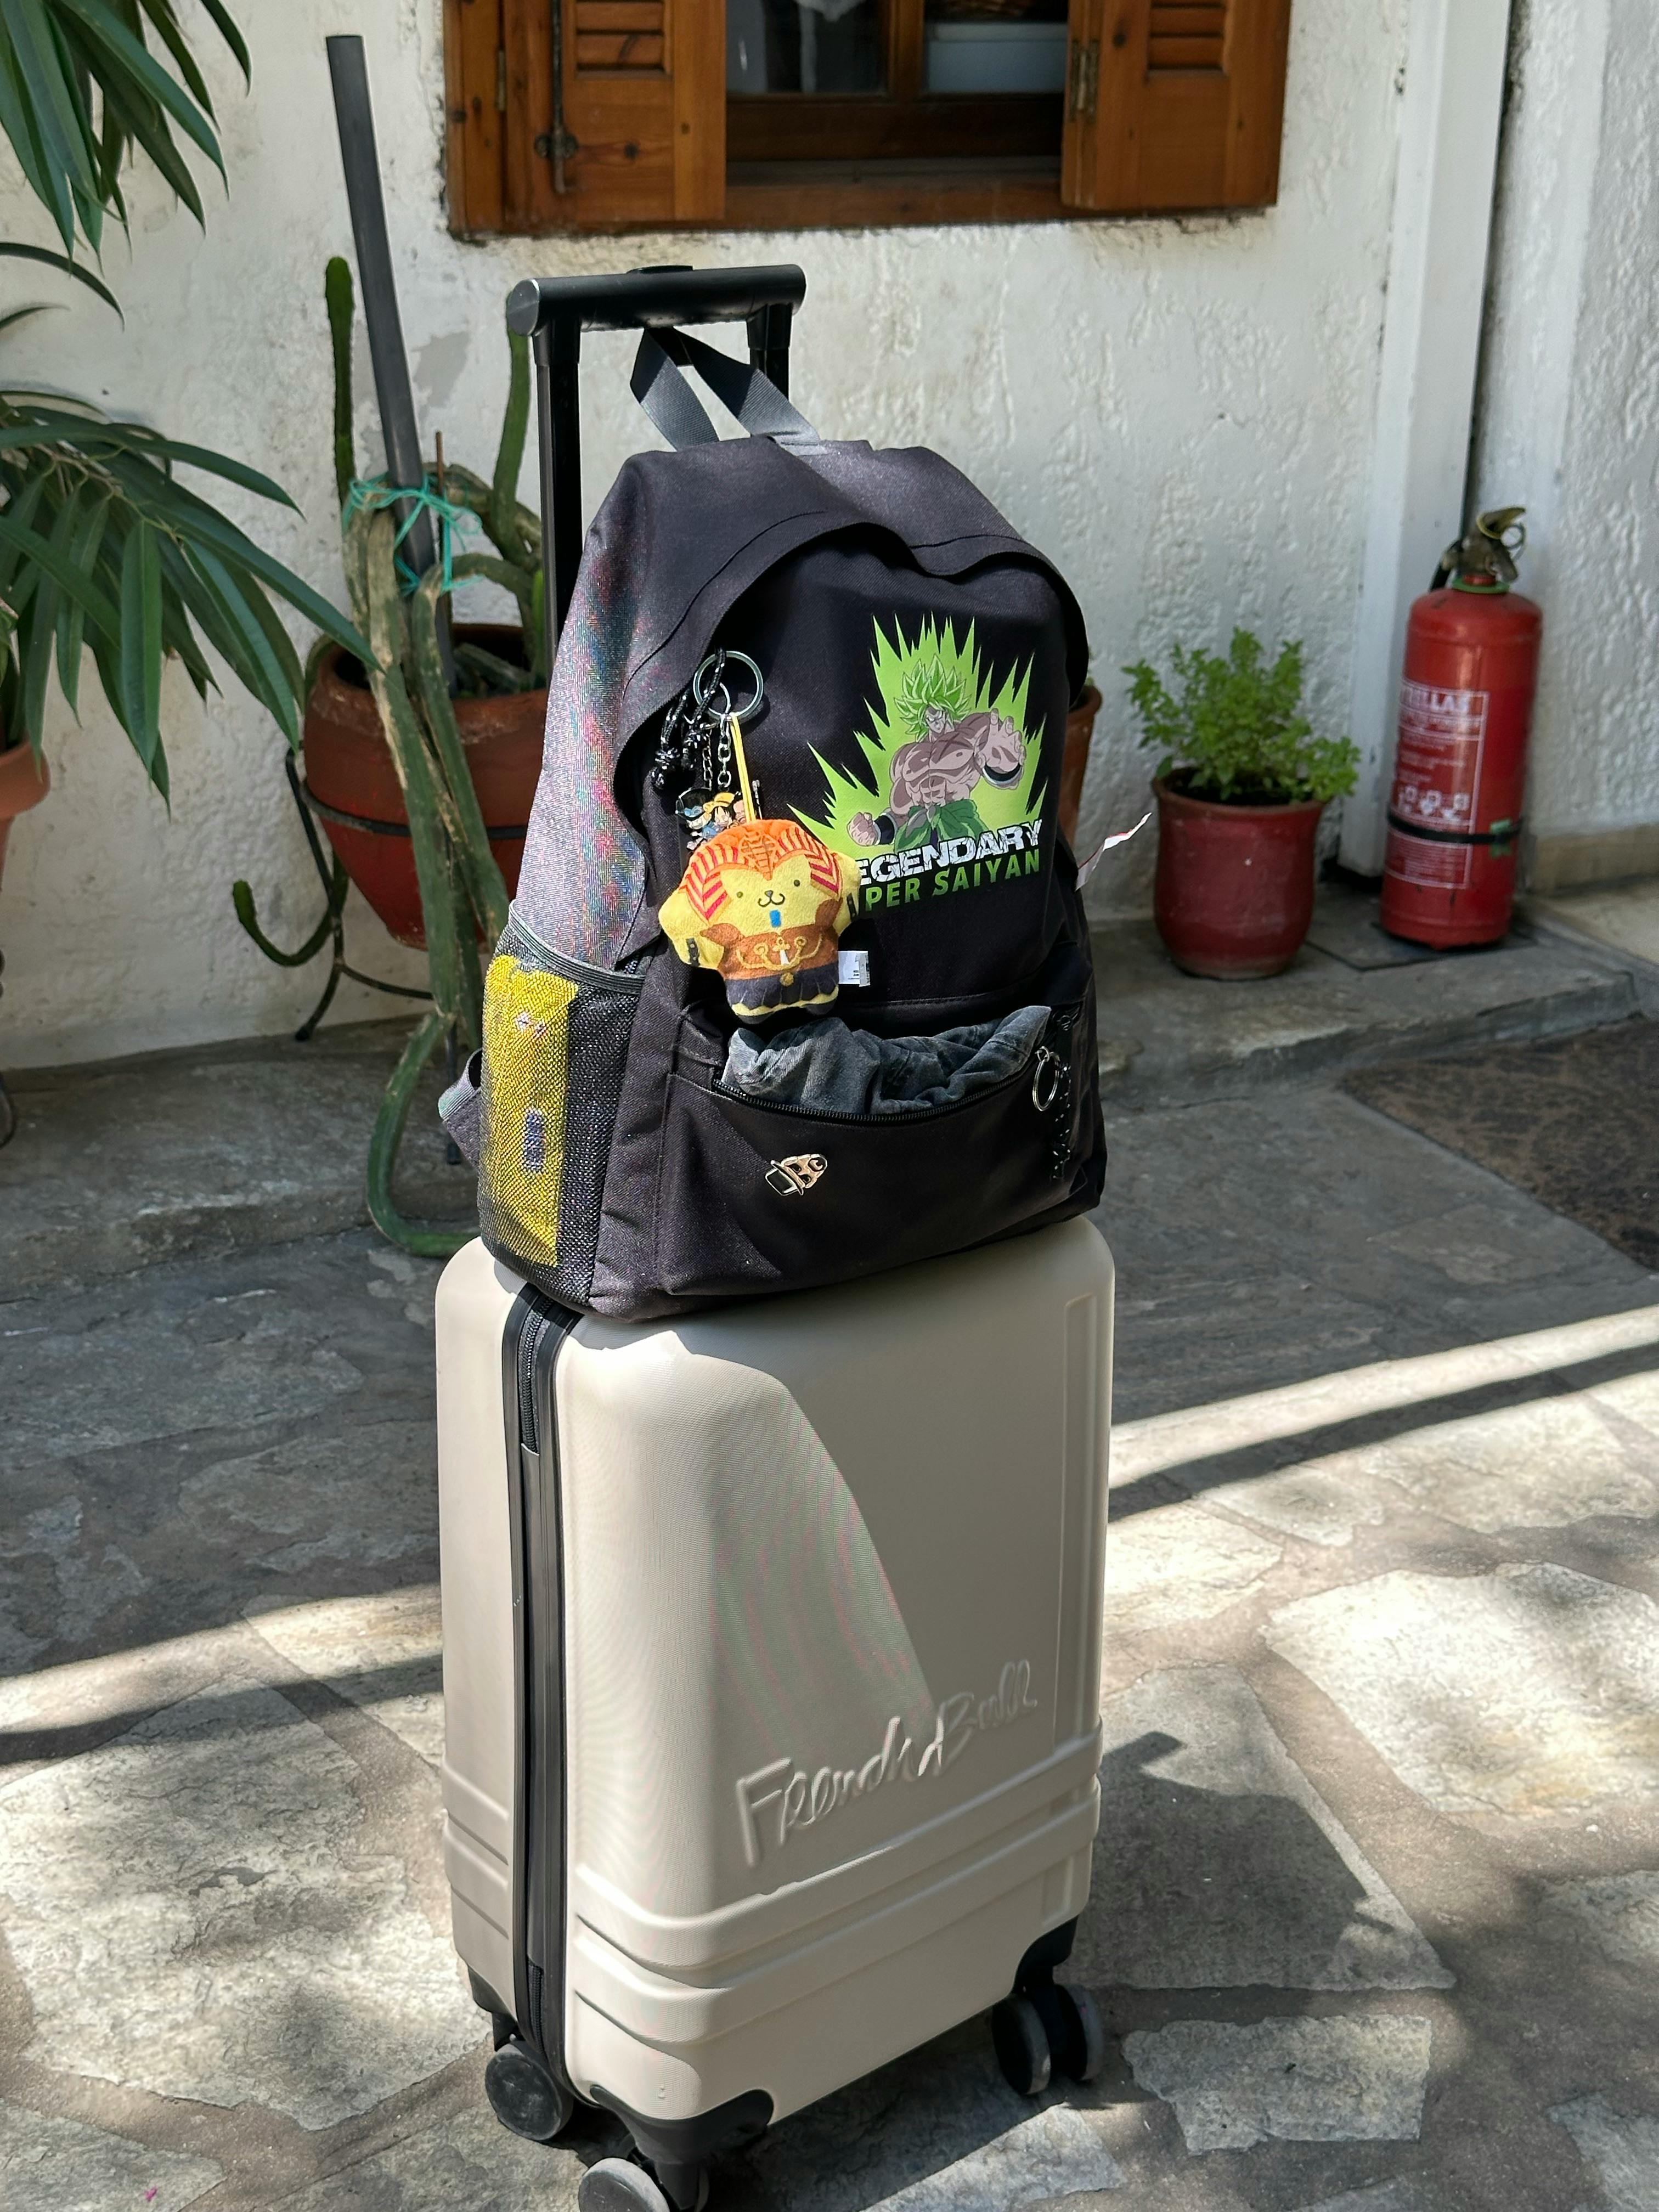extintor: (1384, 489, 1546, 961)
